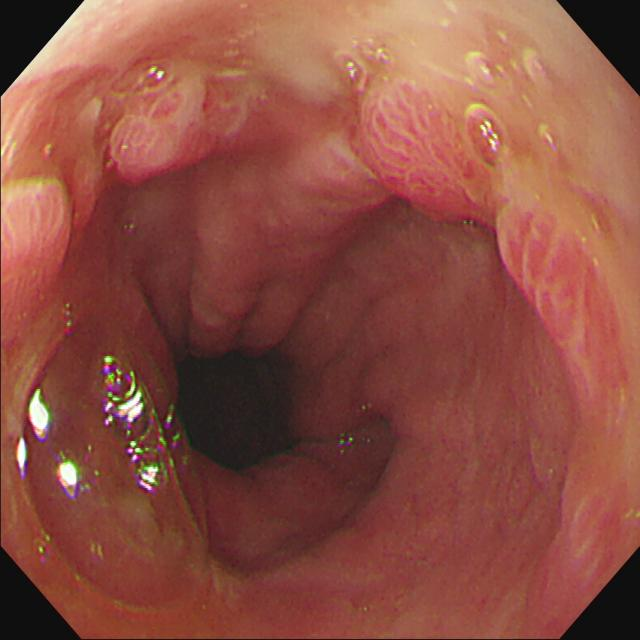A: (495, 205, 619, 375), (111, 72, 254, 178), (355, 85, 464, 216), (2, 172, 71, 323)
E: (176, 354, 300, 468)
T: (466, 104, 511, 171)
U: (103, 357, 175, 494), (18, 386, 52, 477), (57, 462, 81, 501), (149, 61, 168, 80)
